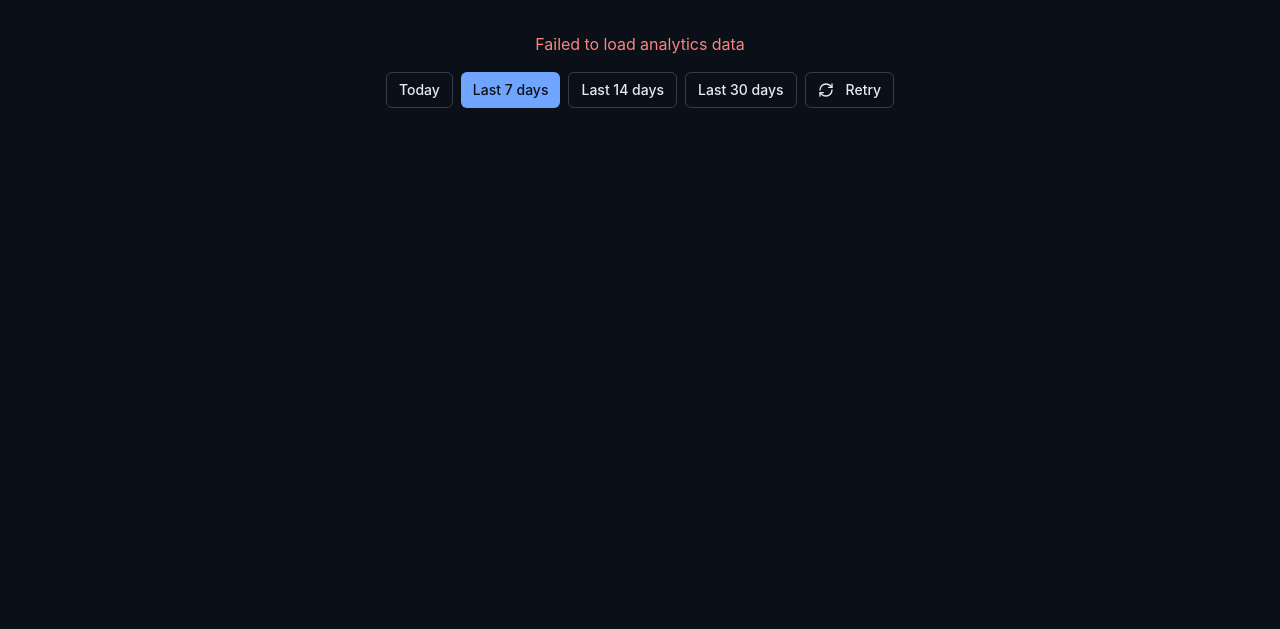
Test: the analytics page after a failed fetch › keeps its ranges on the error screen, and the next good fetch shows the dashboard
expect the text "Failed to load analytics data" is shown: met, box x1=535 y1=34 x2=745 y2=54
Step 1. Click the button "Last 30 days" → [741, 90], box x1=685 y1=72 x2=796 y2=108
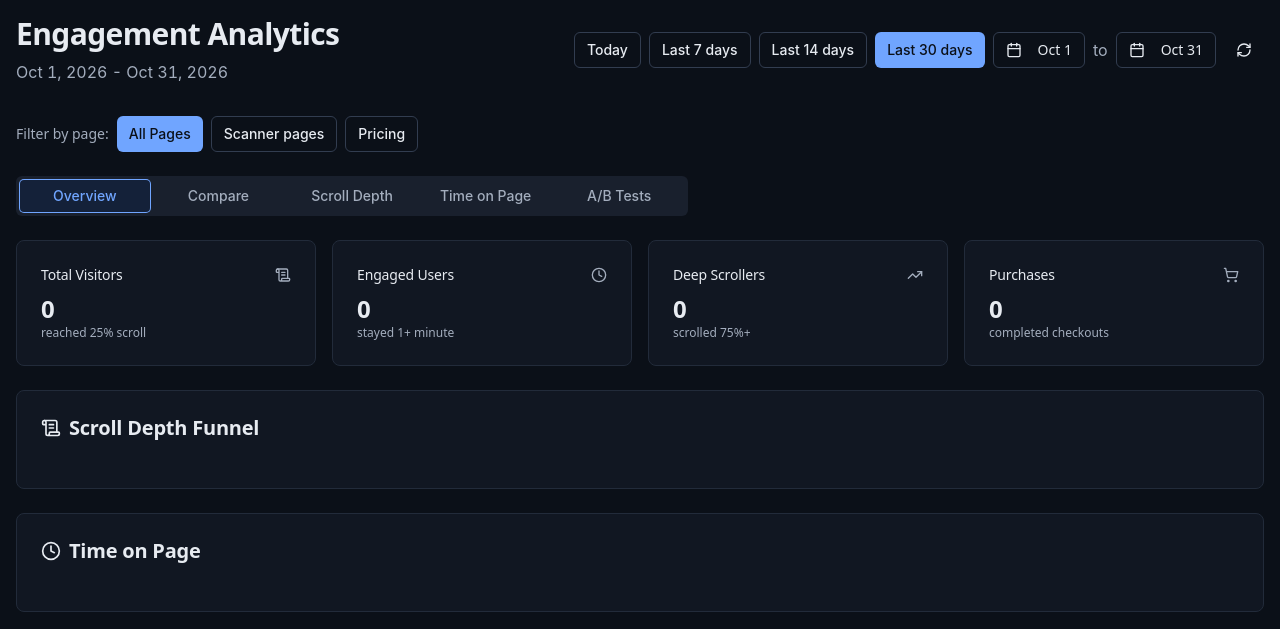
expect the heading "Engagement Analytics" is shown: met, box x1=16 y1=16 x2=339 y2=52
expect the text "Failed to load analytics data" is gone: met
